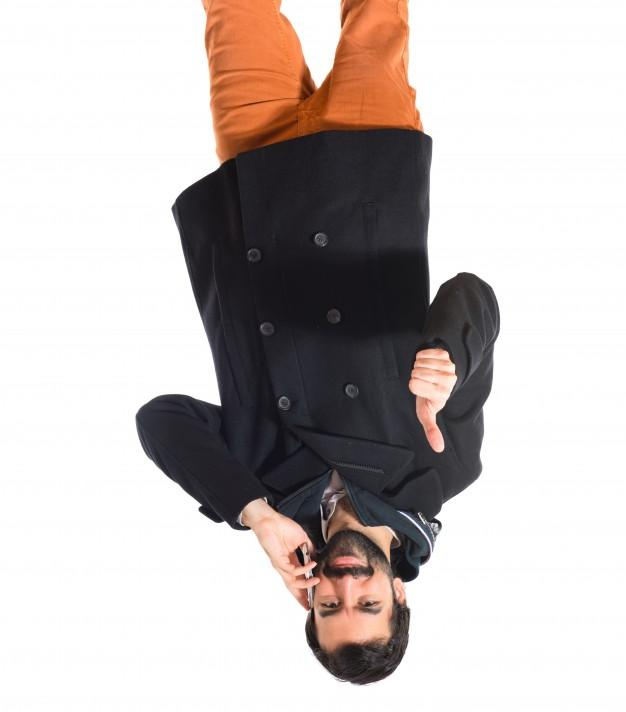thumbsdown: (408, 348, 457, 453)
